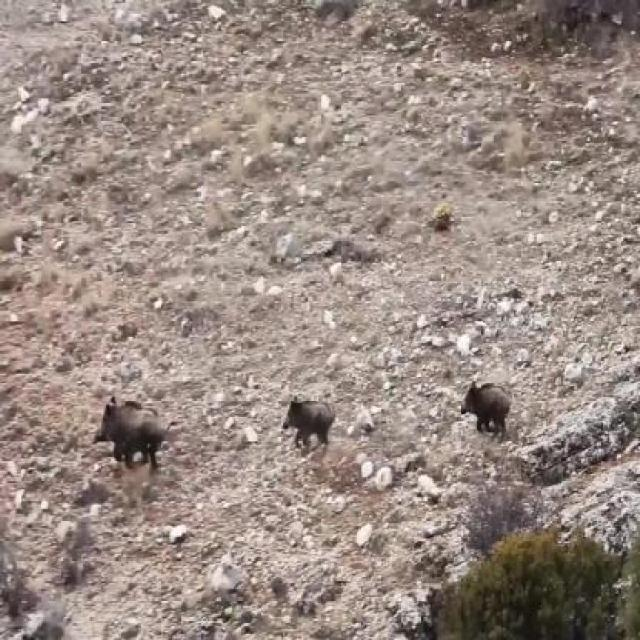pig: (88, 386, 173, 505), (280, 372, 335, 460), (457, 374, 518, 448)
